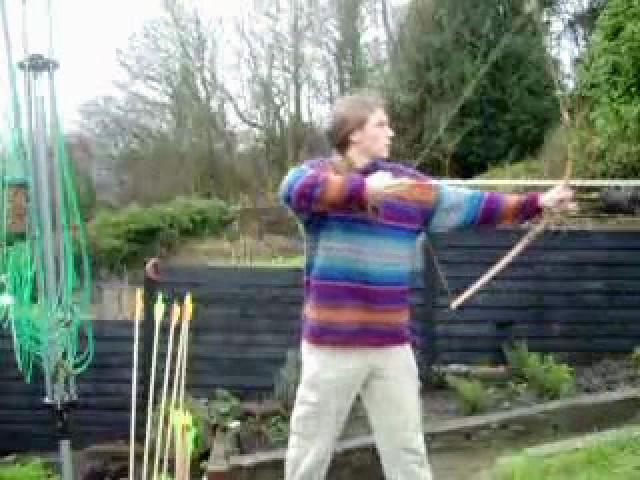I: (273, 96, 571, 474)
